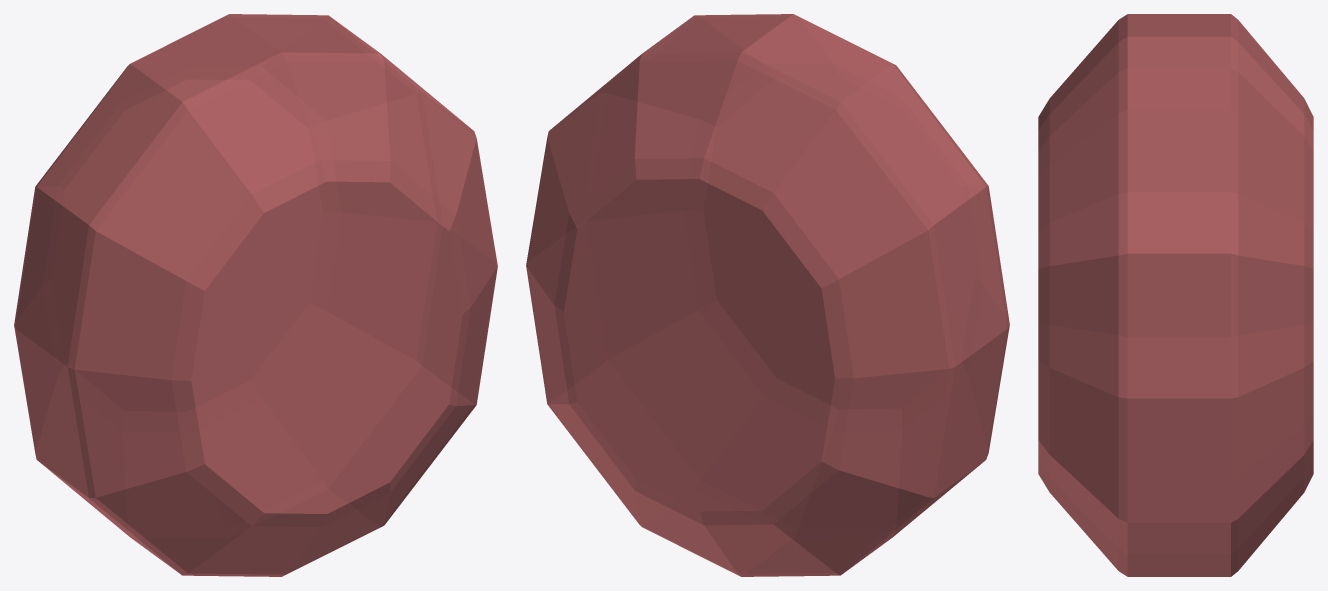
File: houseki0402.fbx
3 renders of one model, left to right at view 1: azimuth 30°, elevation 25°; view 2: azimuth 150°, elevation 25°; view 3: azimuth 270°, elevation 25°, orthographic.
Parts seen in each view (by area): view 1: houseki4_0001:pCube1; view 2: houseki4_0001:pCube1; view 3: houseki4_0001:pCube1.
Boxes of the visible parts, <box> form: houseki4_0001:pCube1: <box>14,14,497,576</box>; houseki4_0001:pCube1: <box>526,14,1009,576</box>; houseki4_0001:pCube1: <box>1038,14,1313,576</box>.
Bounding box in the file's own units: 63.82 × 74.73 × 36.02.
